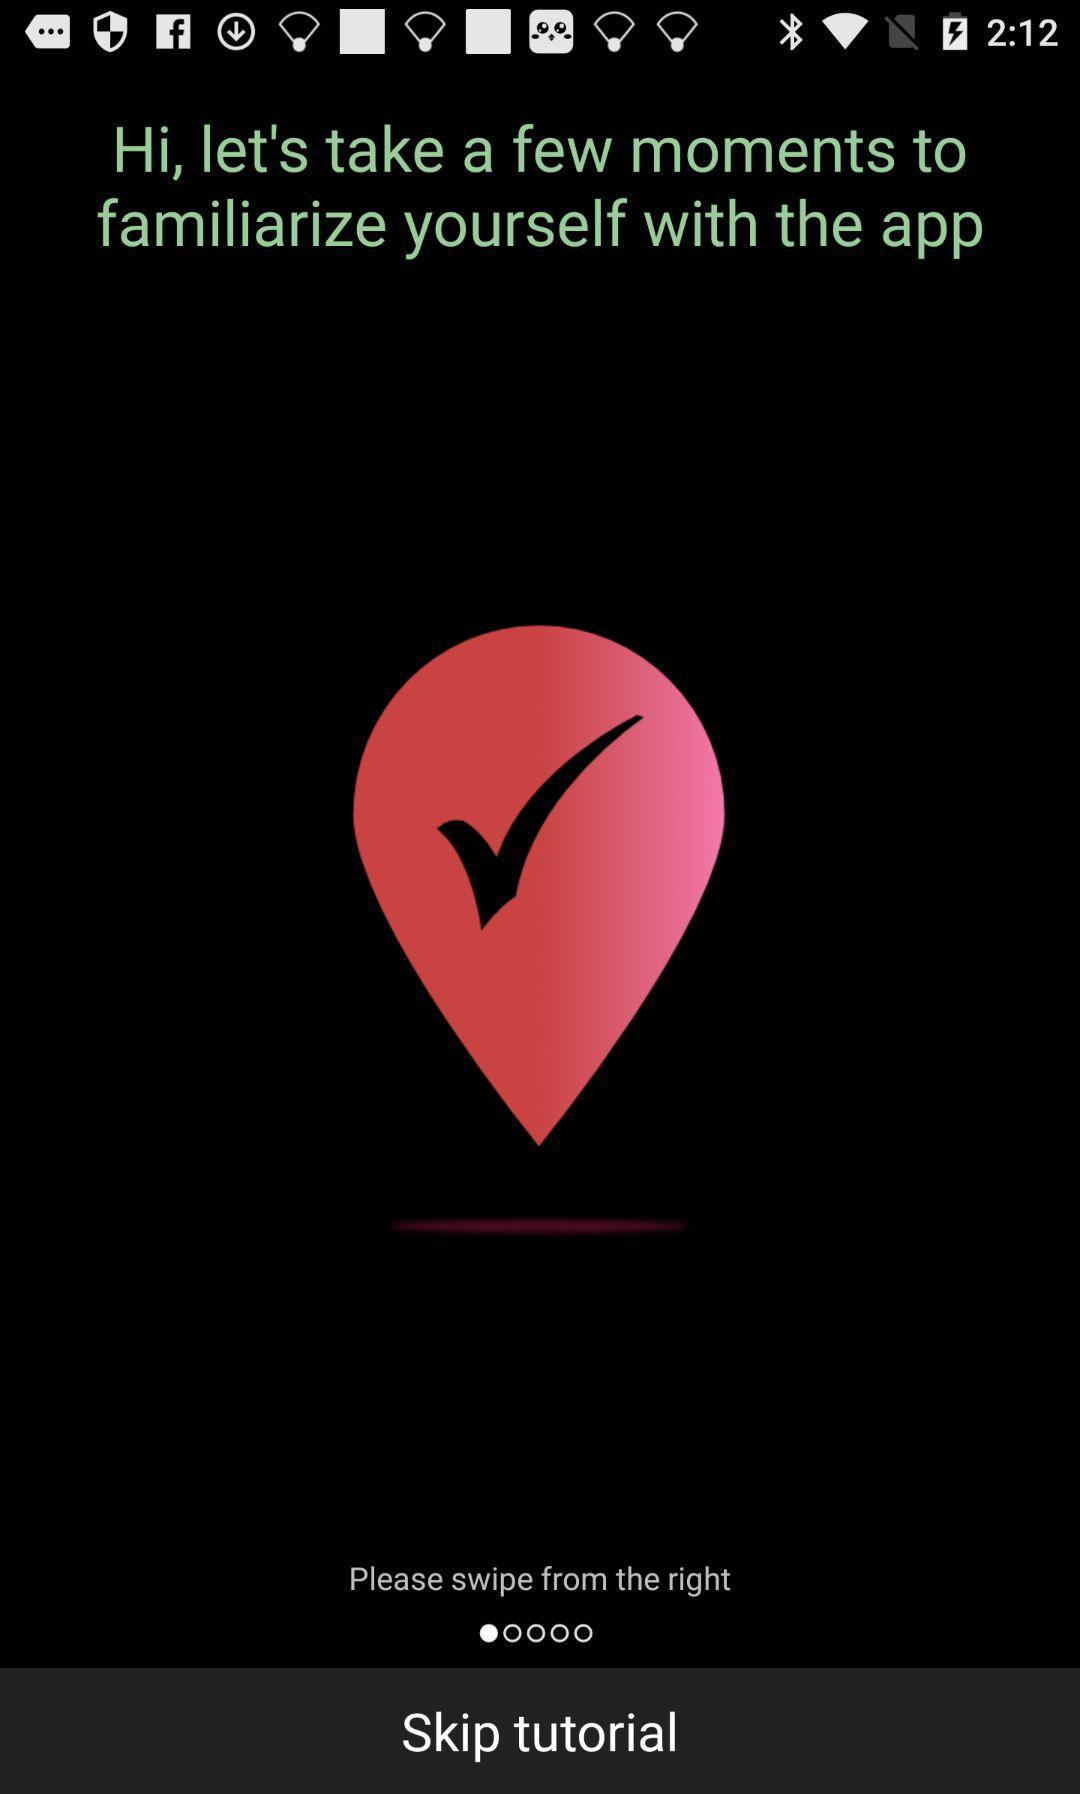Image: (354, 625, 726, 1146)
PageIndicator: (479, 1624, 594, 1644)
Text: (97, 124, 983, 261), (351, 1565, 732, 1597)
TextButton: (1, 1668, 1080, 1794)
UpperTaskBar: (1, 1, 1080, 56)
